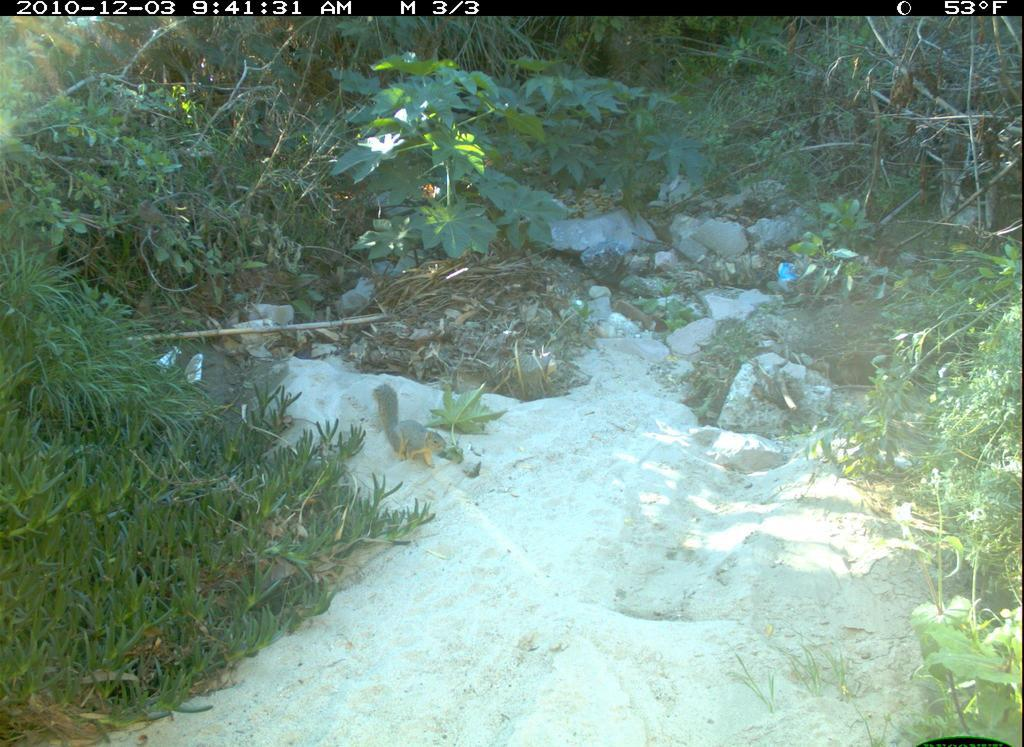squirrel: (358, 382, 459, 479)
